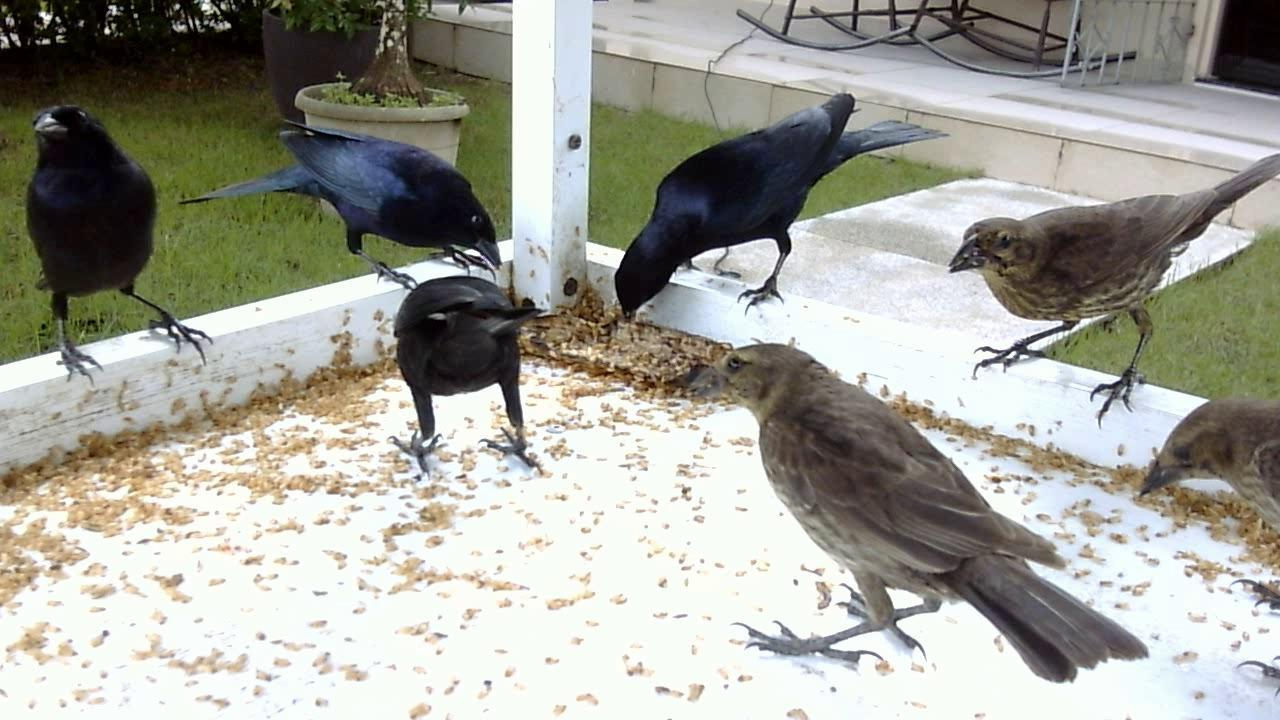chupim: (669, 335, 1161, 694), (936, 146, 1276, 436), (600, 77, 960, 341), (170, 111, 498, 327), (9, 92, 231, 398), (1128, 381, 1280, 685), (375, 263, 561, 485)
